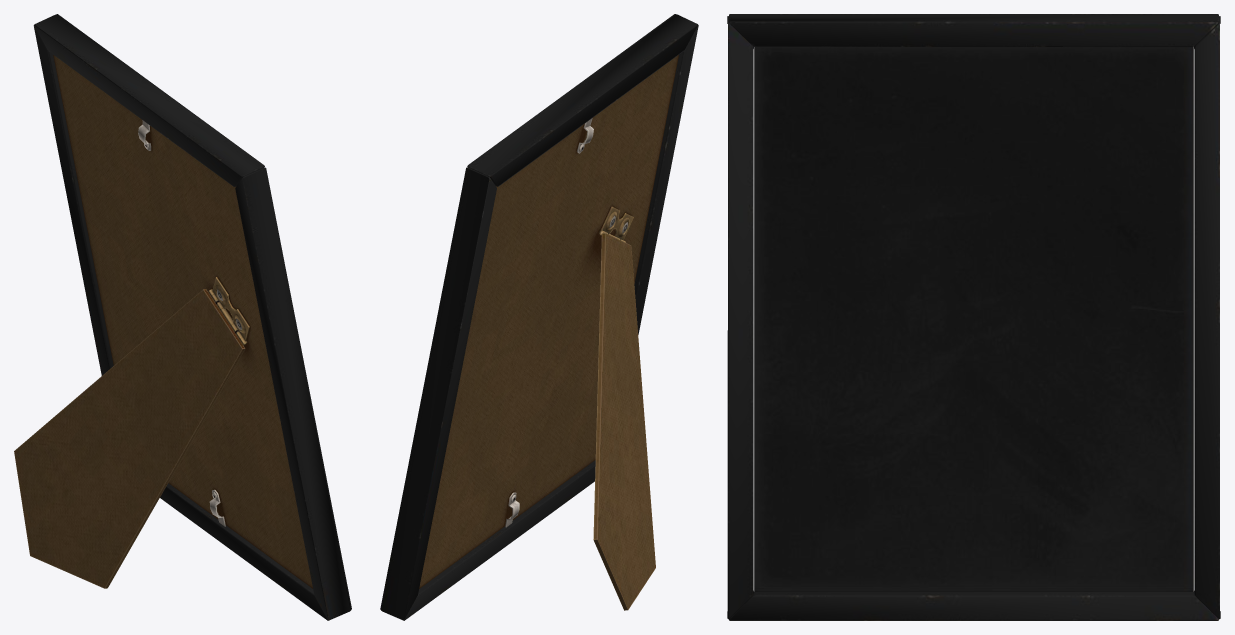
The model's file is standing_picture_frame_01.glb.
The picture shows the model from 3 angles, left to right: view 1: azimuth 30°, elevation 25°; view 2: azimuth 150°, elevation 25°; view 3: azimuth 270°, elevation 25°; orthographic projection. The views are drawn at different scales.
Parts seen in each view (by area): view 1: standing_picture_frame_01; view 2: standing_picture_frame_01; view 3: standing_picture_frame_01.
Part boxes in pixels (x1,y1,x2,y2): standing_picture_frame_01: (14,14,351,620); standing_picture_frame_01: (380,14,698,620); standing_picture_frame_01: (727,14,1220,620).
Bounding box in the file's own units: 0.1002 × 0.2497 × 0.2005.
3 materials, 3 textured.
